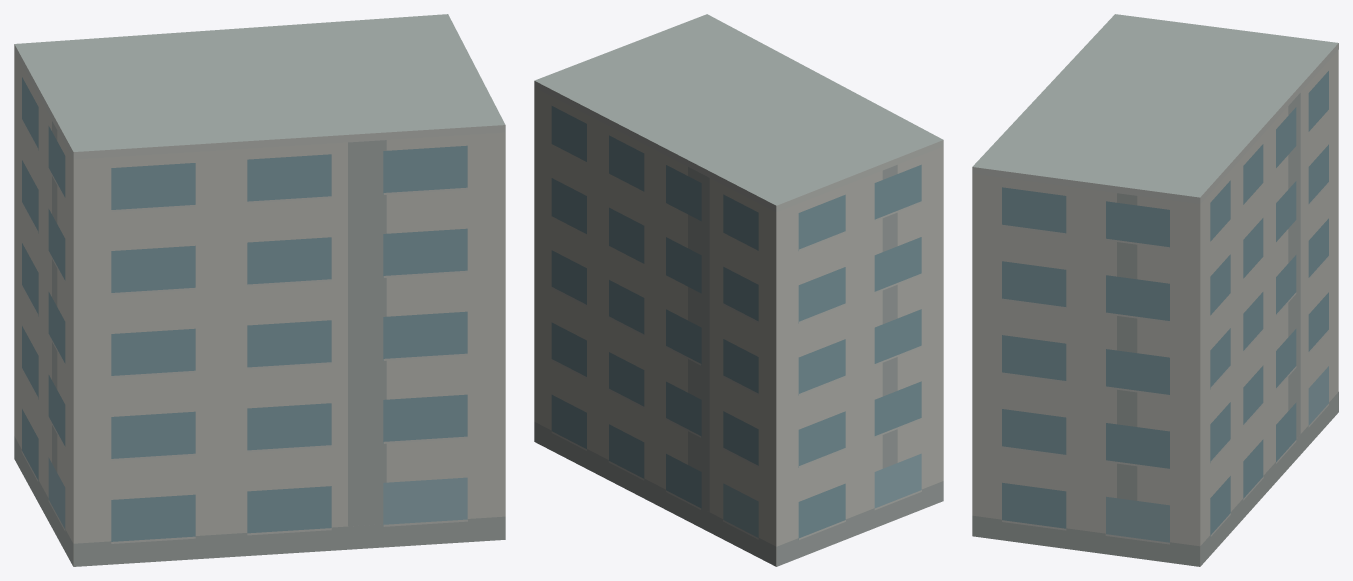
Rendered from survey-upis-32894454.glb.
The picture shows the model from 3 angles, left to right: view 1: azimuth 30°, elevation 25°; view 2: azimuth 150°, elevation 25°; view 3: azimuth 270°, elevation 25°; orthographic projection. The views are drawn at different scales.
Visible parts, largest first — view 1: survey-upis-32894454.tmp; view 2: survey-upis-32894454.tmp; view 3: survey-upis-32894454.tmp.
Boxes of the visible parts, x1,y1,x2,y2 form: survey-upis-32894454.tmp: (14,14,505,566); survey-upis-32894454.tmp: (534,14,943,566); survey-upis-32894454.tmp: (972,14,1338,566).
Size of the model in its own units: 14.13 by 13.25 by 11.93.
